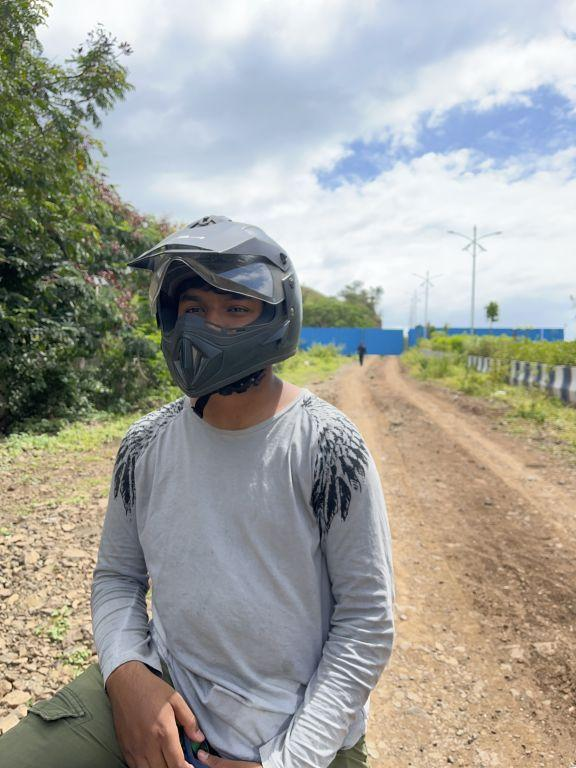helmet: (119, 204, 308, 413)
